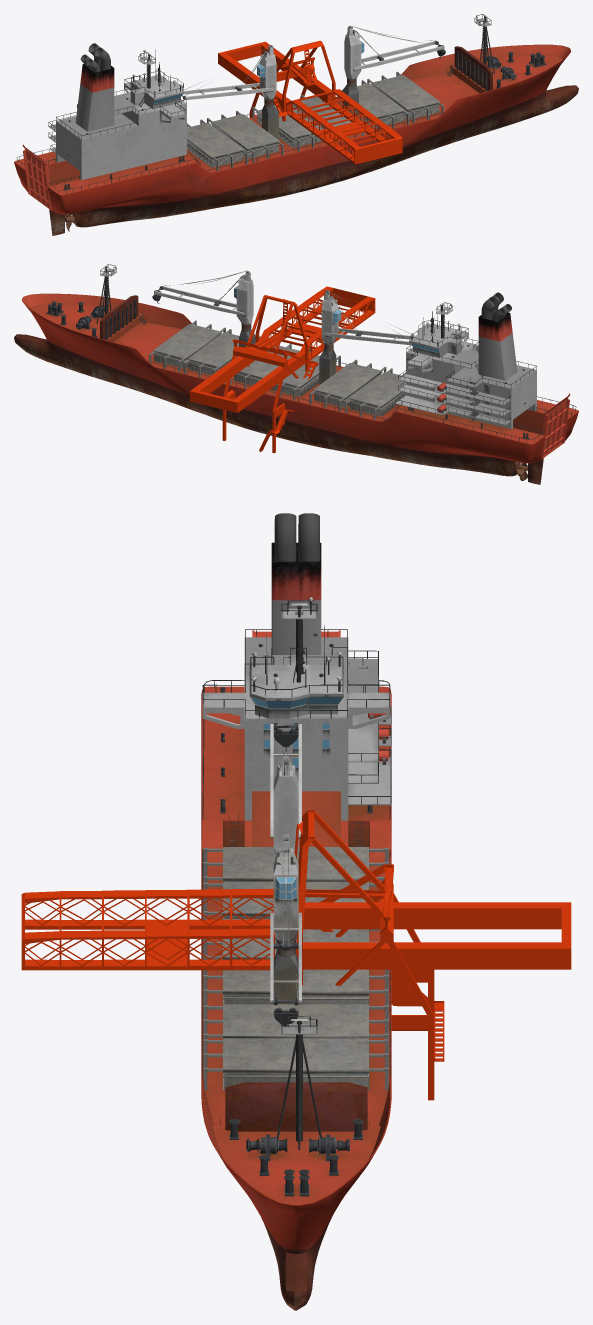
The model's file is cst_port.glb.
3 views of the same model, one above another, from view 1: azimuth 30°, elevation 25°; view 2: azimuth 150°, elevation 25°; view 3: azimuth 270°, elevation 25° (orthographic). The views are drawn at different scales.
Visible parts, largest first — view 1: ship, crane; view 2: ship, crane; view 3: ship, crane.
Boxes of the visible parts, x1=… form: ship: x1=14, y1=14, x2=578, y2=235; crane: x1=218, y1=40, x2=402, y2=164; ship: x1=14, y1=264, x2=578, y2=484; crane: x1=190, y1=286, x2=375, y2=453; ship: x1=201, y1=513, x2=391, y2=1310; crane: x1=21, y1=810, x2=571, y2=1100.
Bounding box in the file's own units: 235 × 73.53 × 103.
Materials: 5 (4 with a texture image).
